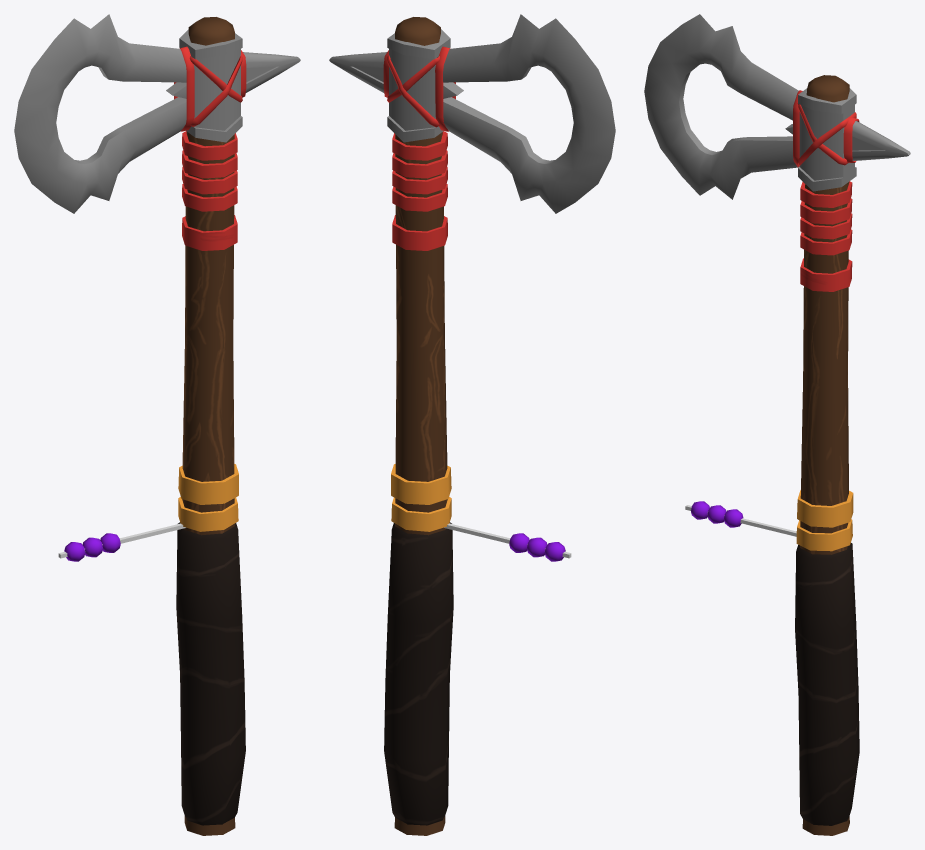
The model's file is TomBullet.fbx.
3 renders of one model, left to right at view 1: azimuth 30°, elevation 25°; view 2: azimuth 150°, elevation 25°; view 3: azimuth 330°, elevation 25°, orthographic. The views are drawn at different scales.
Parts seen in each view (by area): view 1: TomBullet; view 2: TomBullet; view 3: TomBullet.
Part boxes in pixels (x1=…): TomBullet: x1=14, y1=14, x2=300, y2=835; TomBullet: x1=329, y1=14, x2=615, y2=835; TomBullet: x1=644, y1=14, x2=910, y2=835.
Bounding box in the file's own units: 1215 × 3441 × 251.
